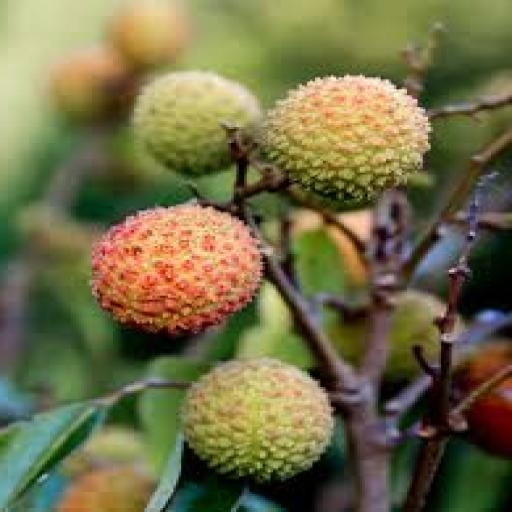lychee: (259, 76, 429, 208), (91, 205, 261, 335), (183, 360, 332, 482), (131, 72, 258, 174), (49, 48, 127, 123), (107, 0, 188, 69), (385, 290, 442, 381), (55, 467, 153, 511), (63, 425, 143, 476), (464, 380, 511, 458)
